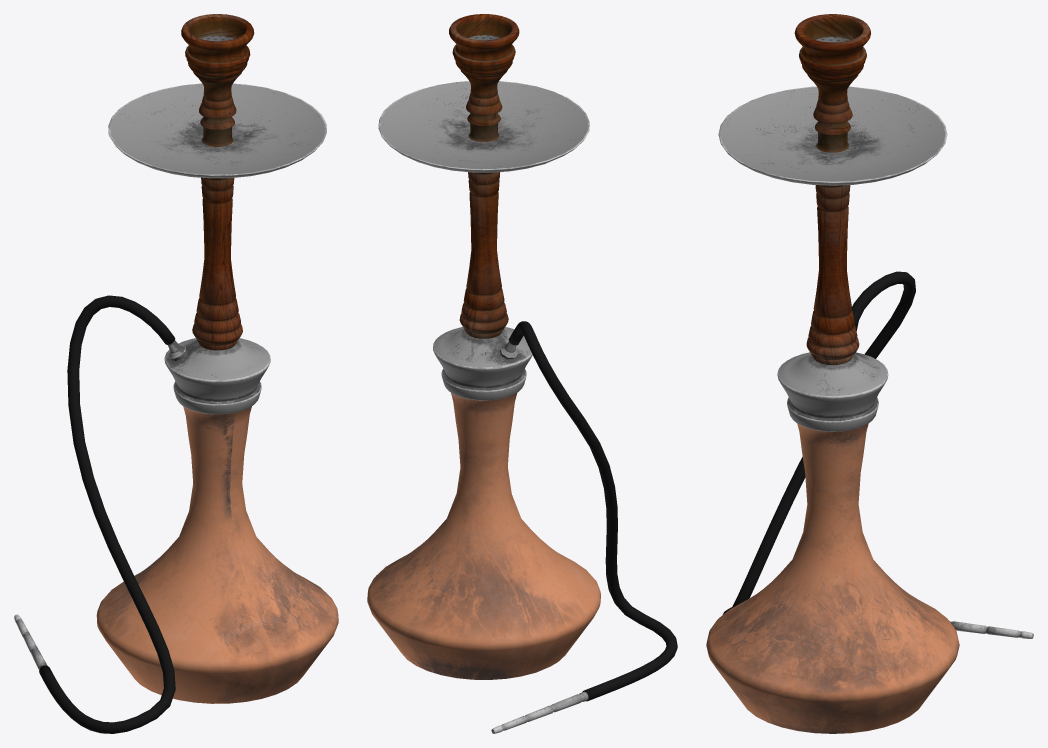
File: Hookah_SIlver.obj
The picture shows the model from 3 angles, left to right: view 1: azimuth 30°, elevation 25°; view 2: azimuth 150°, elevation 25°; view 3: azimuth 270°, elevation 25°; orthographic projection. The views are drawn at different scales.
Parts seen in each view (by area): view 1: Hookah_Cylinder.002; view 2: Hookah_Cylinder.002; view 3: Hookah_Cylinder.002.
Part boxes in pixels (box(x1,y1,x2,y2)): Hookah_Cylinder.002: box(14, 14, 338, 733); Hookah_Cylinder.002: box(367, 14, 677, 733); Hookah_Cylinder.002: box(706, 14, 1033, 733).
Size of the model in its own units: 0.3242 by 0.7321 by 0.3258.
